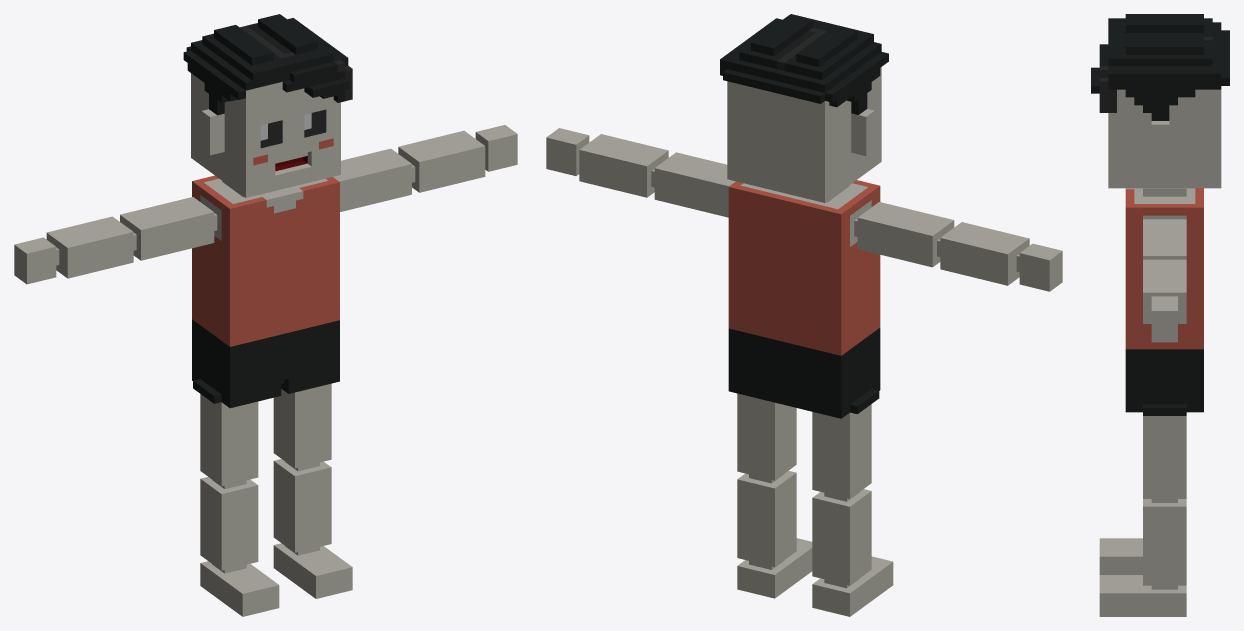
The model's file is character.glb.
3 views of the same model, side by side, from view 1: azimuth 30°, elevation 25°; view 2: azimuth 150°, elevation 25°; view 3: azimuth 270°, elevation 25° (orthographic). The views are drawn at different scales.
Parts seen in each view (by area): view 1: SPS_0; view 2: SPS_0; view 3: SPS_0.
Boxes of the visible parts, x1,y1,x2,y2 form: SPS_0: (14,14,517,616); SPS_0: (546,14,1062,616); SPS_0: (1091,14,1229,616).
Size of the model in its own units: 67 by 71 by 16.
